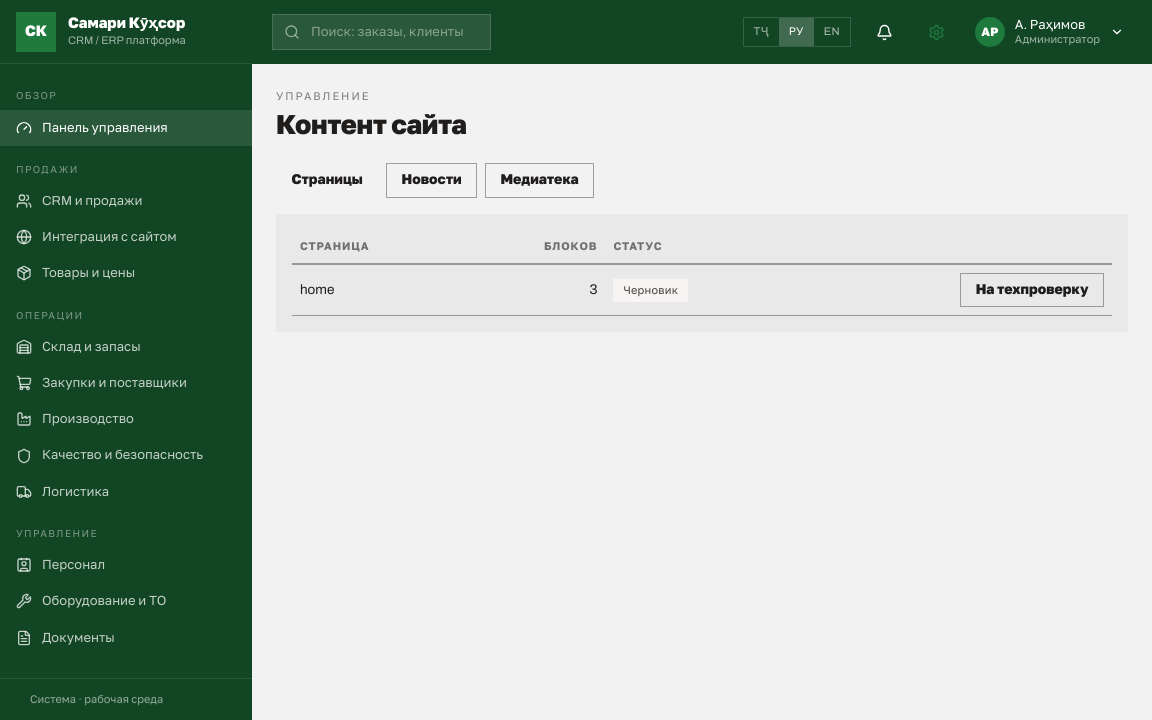
block editor › edits one locale at a time and refetches on switch
Click the button "home".
click(317, 291)  # box [300, 280, 334, 301]
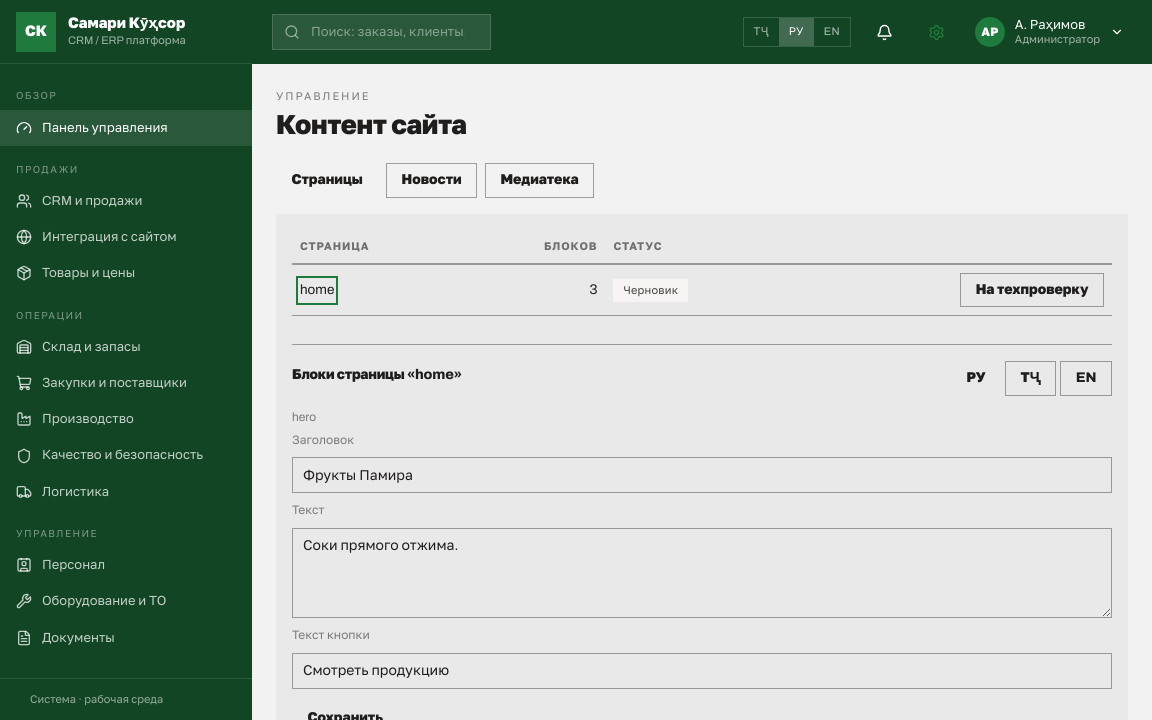
Expected: the form with test id "block-form" is shown, [292, 408, 1112, 719]
Click the button "ТҶ" in the row of "Блоки страницы «".
click(1031, 379)  # box [1005, 361, 1056, 396]
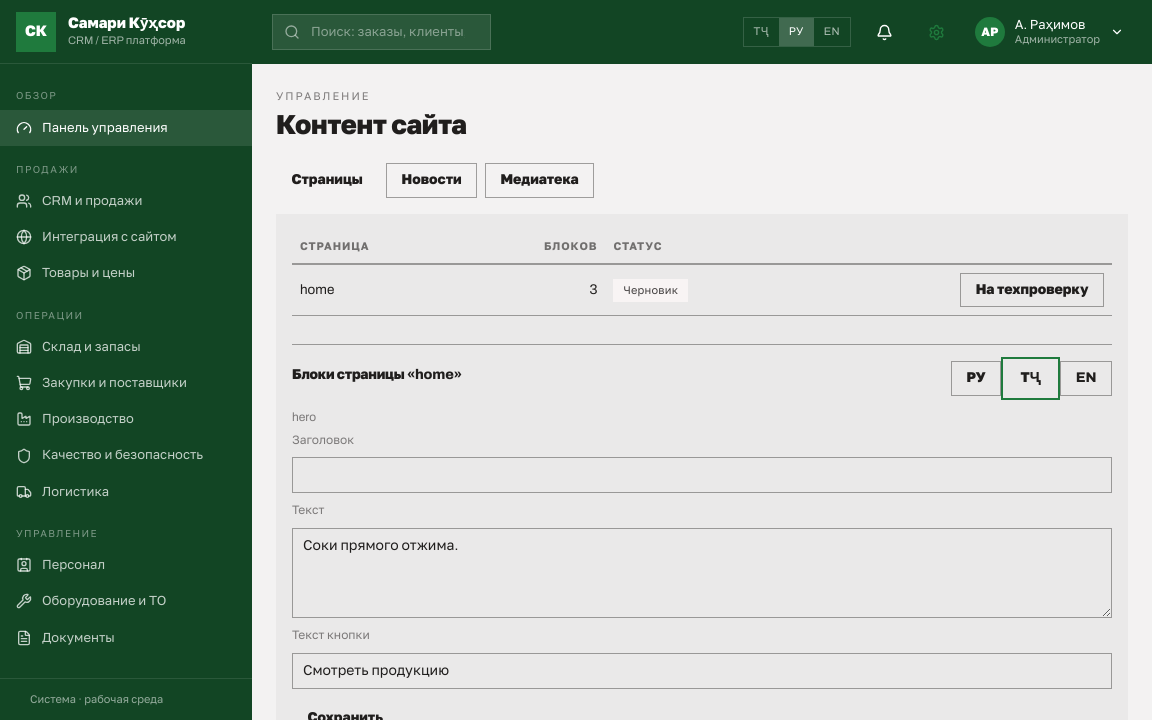
Expected: the field labelled "Заголовок" is empty, [292, 457, 1112, 493]
